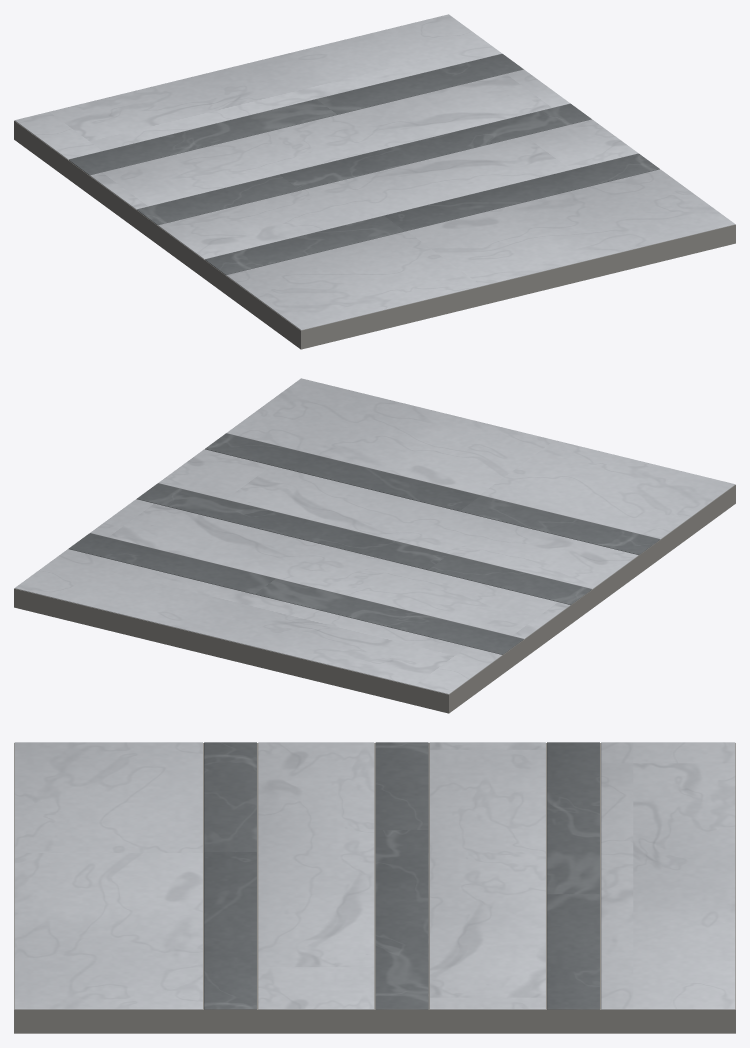
File: floor_KA-DB035.glb
3 views of the same model, one above another, from view 1: azimuth 30°, elevation 25°; view 2: azimuth 150°, elevation 25°; view 3: azimuth 270°, elevation 25° (orthographic). The views are drawn at different scales.
Visible parts, largest first — view 1: Floor; view 2: Floor; view 3: Floor.
Part boxes in pixels (box(x1,y1,x2,y2)): Floor: box(14, 14, 735, 349); Floor: box(14, 378, 735, 713); Floor: box(14, 742, 735, 1033).
Bounding box in the file's own units: 1.4 × 0.06 × 1.6.
3 materials, 2 textured.
